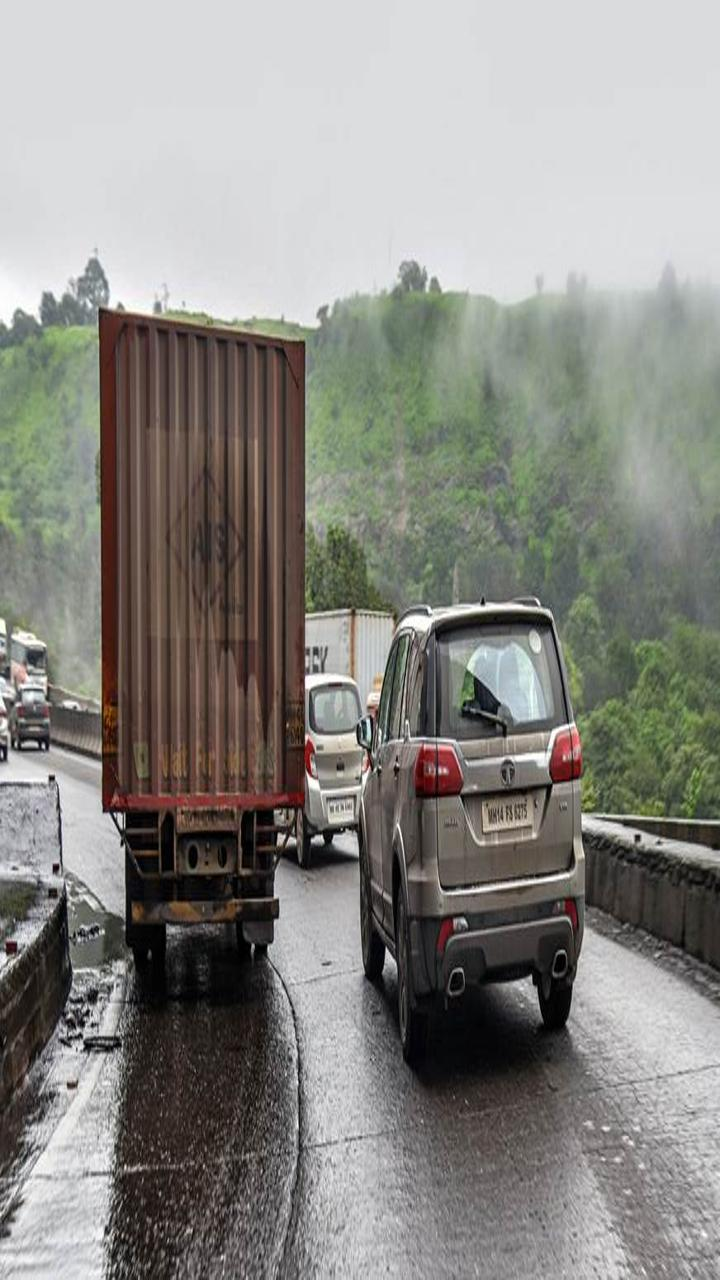vehicle: (64, 301, 312, 963), (335, 605, 608, 1052)
